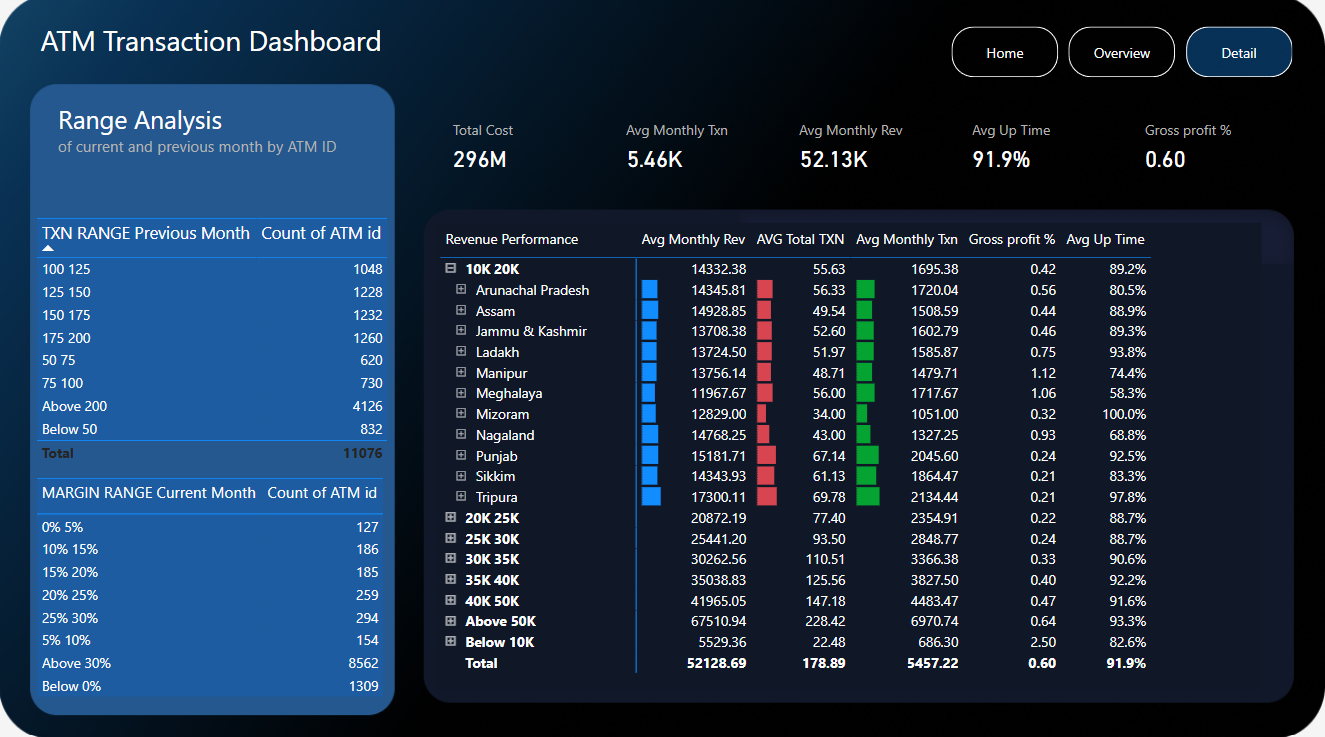

The dashboard page shown, as its layout file describes it:
{"tool":"powerbi","page":{"name":"Detail","canvas":[1280,720],"ordinal":2},"visuals":[{"type":"tableEx","fields":{"Values":["Dataset.MARGIN RANGE Current Month","Dataset.ATM id"]},"box":[30,462.5,351.2,226.2],"z":0},{"type":"textbox","box":[51.9,100.1,319.7,77.2],"z":1000},{"type":"tableEx","fields":{"Values":["Dataset.TXN RANGE Previous Month","Dataset.ATM id"]},"box":[30,211.2,361.2,251.2],"z":2000},{"type":"pivotTable","fields":{"Rows":["Dataset.Revenue Performance","Dataset.STATE","Dataset.ATM id"],"Values":["Avg(Dataset.Monthly Rev)","Avg(Dataset.AVG Total TXN)","Avg(Dataset.Monthly Txn)","Dataset.Gross profit percentage","Avg(Dataset.Up Time)"]},"box":[421.2,221.2,797.5,451.2],"z":3000},{"type":"cardVisual","fields":{"Data":["Sum(Dataset. Total Cost  )","Avg(Dataset.Monthly Txn)","Avg(Dataset.Monthly Rev)","Avg(Dataset.Up Time)","Dataset.Gross profit percentage"]},"box":[421.2,100,841.2,92.5],"z":4000},{"type":"pageNavigator","box":[919.3,31.4,331.8,49.5],"z":5000},{"type":"textbox","box":[35,21.2,463.8,60],"z":6000}]}

Visuals, with their boxes in screenshot pixels (x1, y1, x2, y2), scaled from the page's 1280x720 canvas onto the 1325x737 screenshot:
tableEx - Dataset.MARGIN RANGE Current Month x Dataset.ATM id: [x1=31, y1=473, x2=395, y2=705]
textbox: [x1=54, y1=102, x2=385, y2=181]
tableEx - Dataset.TXN RANGE Previous Month x Dataset.ATM id: [x1=31, y1=216, x2=405, y2=473]
pivotTable - Dataset.Revenue Performance x Dataset.STATE: [x1=436, y1=226, x2=1262, y2=688]
cardVisual - Sum(Dataset. Total Cost  ) x Avg(Dataset.Monthly Txn): [x1=436, y1=102, x2=1307, y2=197]
pageNavigator: [x1=952, y1=32, x2=1295, y2=83]
textbox: [x1=36, y1=22, x2=516, y2=83]
